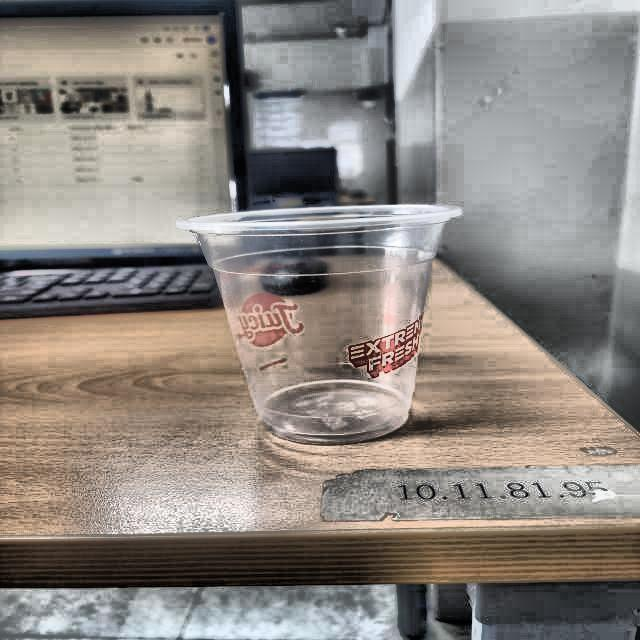plastic cup: (175, 202, 463, 445)
